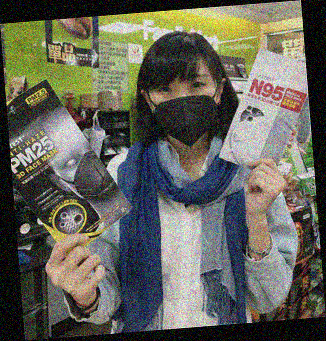with_mask: (149, 73, 220, 147)
